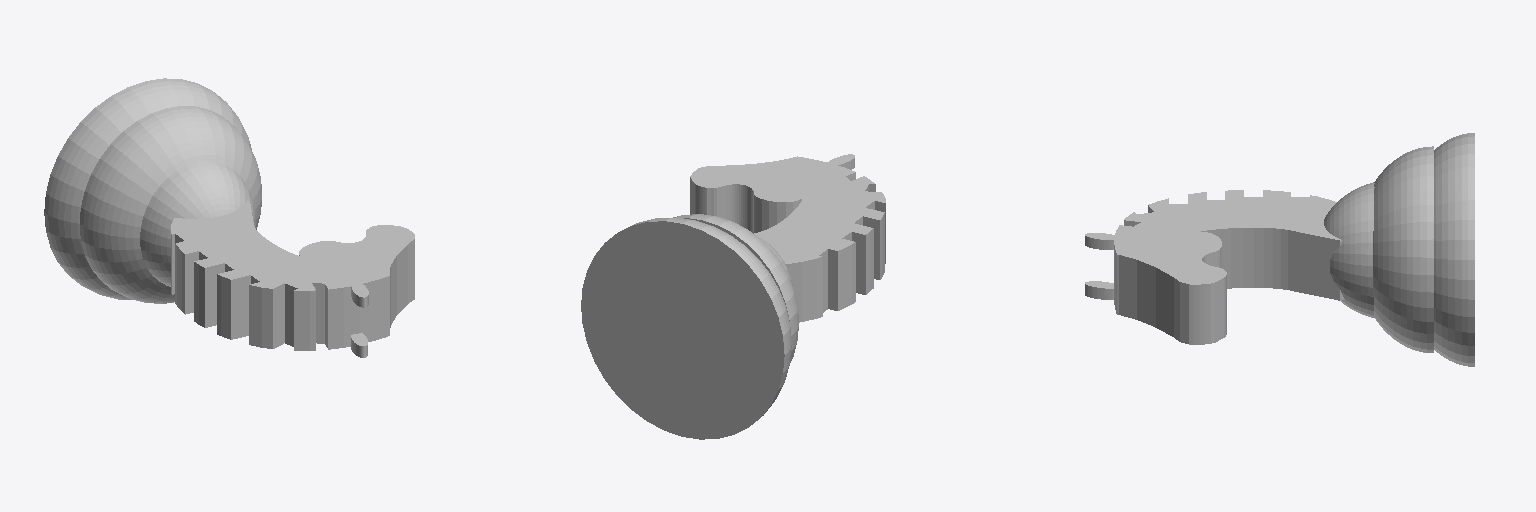
The model's file is knight.obj.
The picture shows the model from 3 angles: view 1: azimuth 30°, elevation 25°; view 2: azimuth 150°, elevation 25°; view 3: azimuth 270°, elevation 25°; orthographic projection.
Visible parts, largest first — view 1: obj_0; view 2: obj_0; view 3: obj_0.
Boxes of the visible parts, box(x1,y1,x2,y2) form: obj_0: box(44, 78, 414, 357); obj_0: box(581, 154, 885, 439); obj_0: box(1085, 133, 1474, 366).
Size of the model in its own units: 5.54 by 4.94 by 8.2.